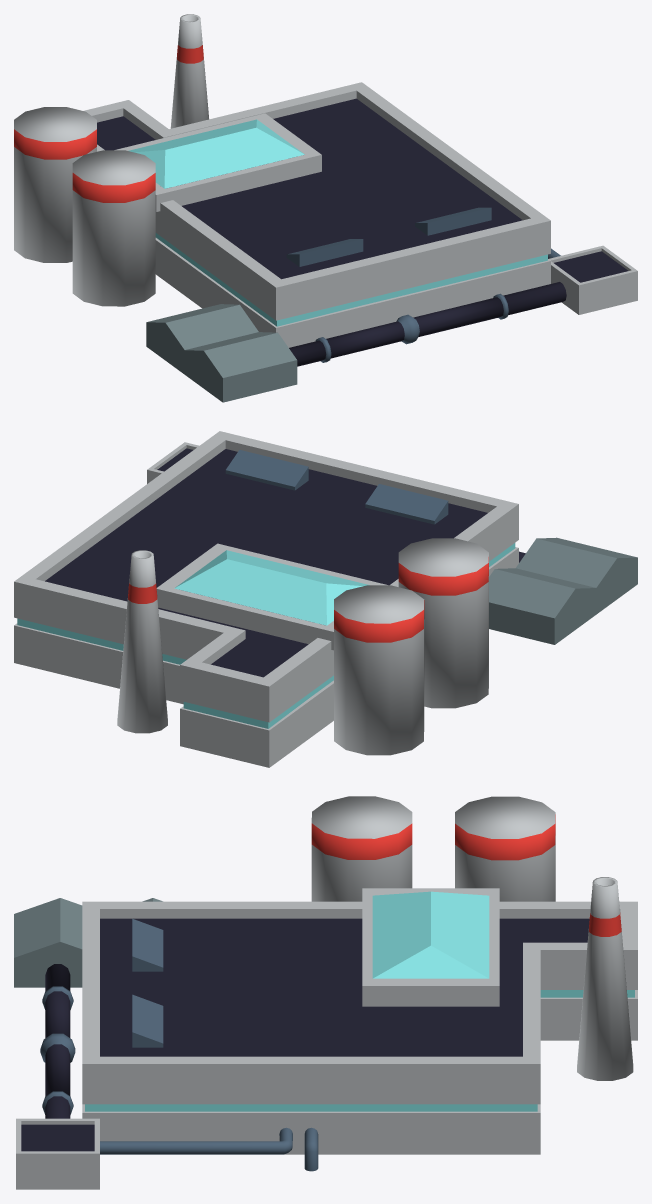
The model's file is factory.fbx.
3 renders of one model, top to bottom at view 1: azimuth 30°, elevation 25°; view 2: azimuth 150°, elevation 25°; view 3: azimuth 270°, elevation 25°, orthographic. The views are drawn at different scales.
Parts seen in each view (by area): view 1: Cube, Cylinder.001, Cylinder, Plane.001, Cube.002, Cylinder.003, Cube.001, Plane, Cylinder.002, Cube.003, Cube.004; view 2: Cube, Cylinder, Cylinder.001, Plane.001, Cube.002, Cylinder.002, Cube.001, Cube.004, Cube.003, Plane; view 3: Cube, Cube.002, Cylinder.001, Cylinder, Cylinder.002, Cube.001, Plane, Plane.001, Cylinder.003, Plane.003, Cube.003, Cube.004 (+1 smaller).
Part boxes in pixels (box(x1,y1,x2,y2)): Cube: box(84, 82, 550, 347); Cylinder.001: box(72, 150, 155, 306); Cylinder: box(14, 107, 96, 262); Plane.001: box(146, 304, 297, 402); Cube.002: box(128, 119, 304, 188); Cylinder.003: box(289, 282, 566, 366); Cube.001: box(114, 113, 321, 211); Plane: box(549, 245, 637, 314); Cylinder.002: box(170, 14, 208, 128); Cube.003: box(415, 207, 491, 235); Cube.004: box(286, 239, 363, 266); Cube: box(14, 431, 518, 767); Cylinder: box(334, 585, 424, 755); Cylinder.001: box(398, 538, 488, 708); Plane.001: box(489, 537, 637, 644); Cube.002: box(174, 550, 369, 625); Cylinder.002: box(117, 550, 167, 733); Cube.001: box(156, 543, 387, 650); Cube.004: box(365, 484, 448, 524); Cube.003: box(225, 450, 308, 490); Plane: box(147, 442, 199, 483); Cube: box(82, 901, 637, 1154); Cube.002: box(372, 891, 489, 978); Cylinder.001: box(311, 796, 412, 901); Cylinder: box(455, 796, 555, 901); Cylinder.002: box(577, 877, 633, 1080); Cube.001: box(362, 888, 499, 1006); Plane: box(16, 1118, 99, 1189); Plane.001: box(14, 898, 162, 987); Cylinder.003: box(40, 964, 75, 1118); Plane.003: box(100, 1127, 292, 1154); Cube.003: box(132, 994, 163, 1047); Cube.004: box(132, 919, 163, 971).
Size of the model in its own units: 118 by 42.2 by 126.
